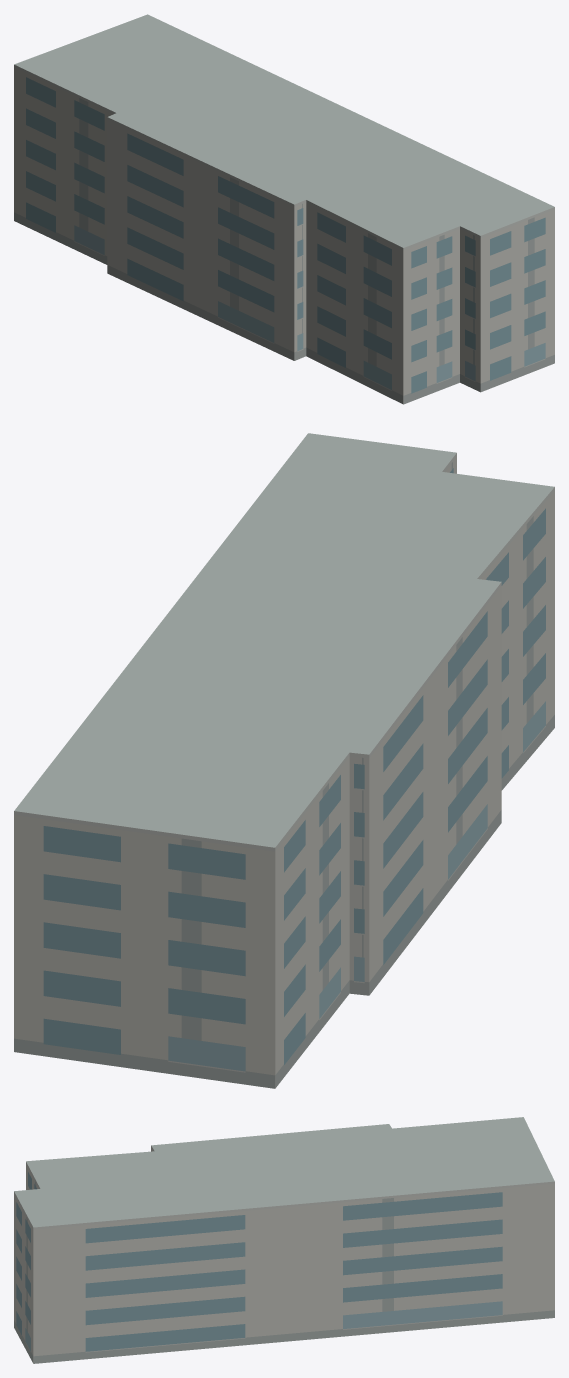
The model's file is survey-upis-32899029.glb.
3 views of the same model, one above another, from view 1: azimuth 30°, elevation 25°; view 2: azimuth 150°, elevation 25°; view 3: azimuth 270°, elevation 25° (orthographic). The views are drawn at different scales.
Parts seen in each view (by area): view 1: survey-upis-32899029.tmp; view 2: survey-upis-32899029.tmp; view 3: survey-upis-32899029.tmp.
Part boxes in pixels (x1,y1,x2,y2): survey-upis-32899029.tmp: [14, 14, 554, 404]; survey-upis-32899029.tmp: [14, 433, 554, 1088]; survey-upis-32899029.tmp: [14, 1117, 554, 1363].
Bounding box in the file's own units: 26.5 × 15.25 × 54.82.
